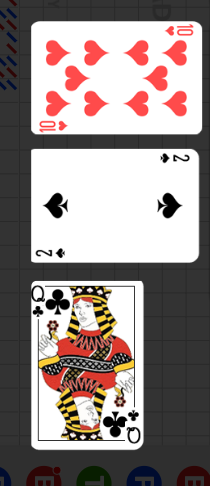10H: (162, 24, 195, 38)
2S: (34, 246, 68, 260)
9C: (125, 408, 142, 446)
